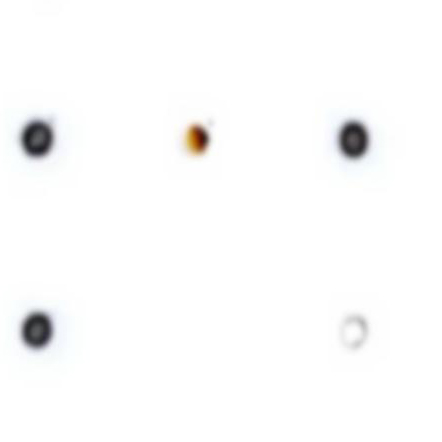abnormal: (320, 299, 384, 369)
cancer: (4, 100, 82, 172), (6, 296, 70, 369), (323, 109, 391, 163)
normal: (165, 105, 225, 167)
